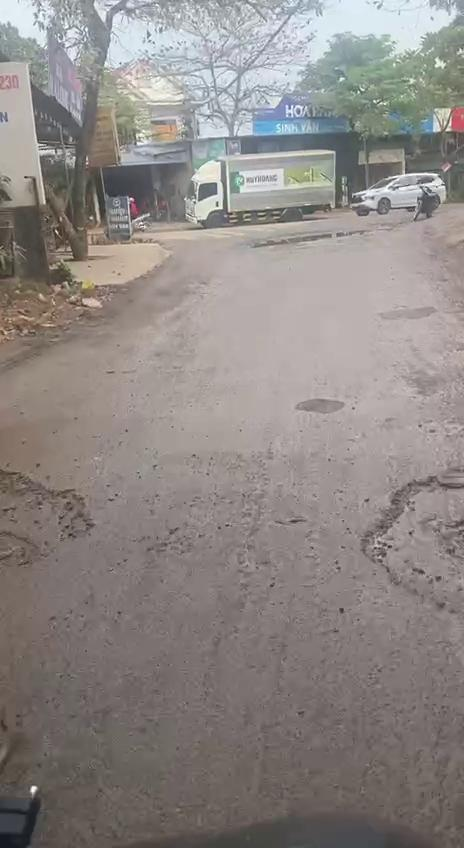pothole: (356, 456, 464, 614), (0, 462, 100, 560)
